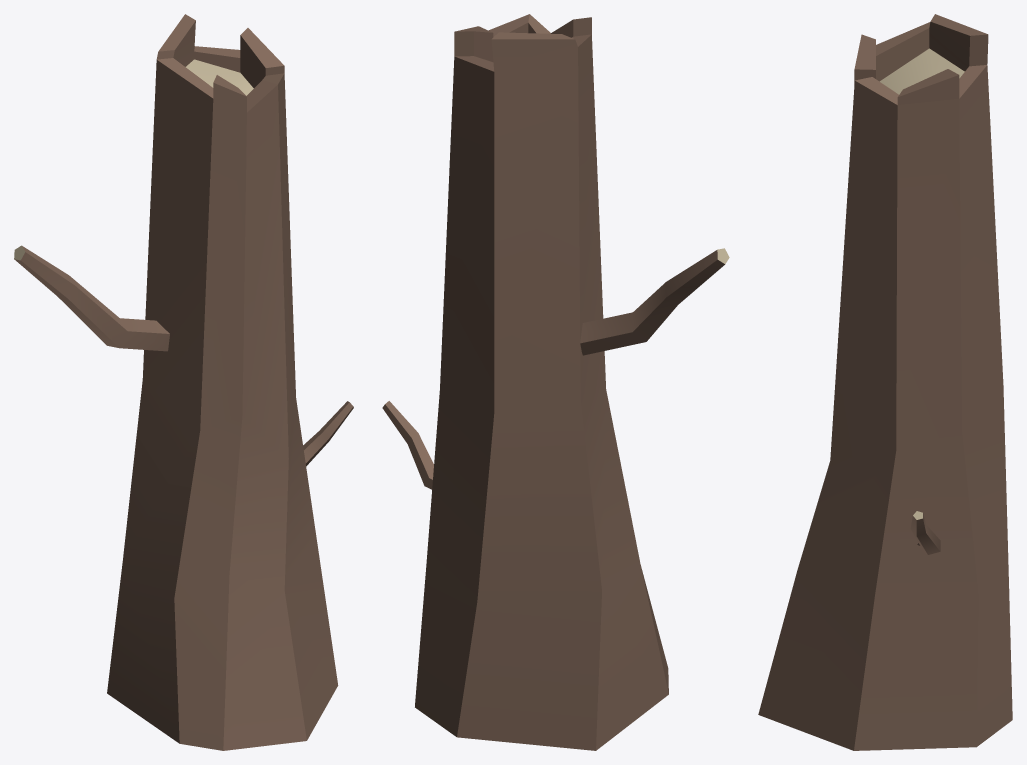
Rendered from tree03.fbx.
3 renders of one model, left to right at view 1: azimuth 30°, elevation 25°; view 2: azimuth 150°, elevation 25°; view 3: azimuth 270°, elevation 25°, orthographic. The views are drawn at different scales.
Visible parts, largest first — view 1: polySurface13; view 2: polySurface13; view 3: polySurface13.
Part boxes in pixels (x1=…): polySurface13: x1=14, y1=14, x2=353, y2=750; polySurface13: x1=382, y1=14, x2=729, y2=750; polySurface13: x1=758, y1=14, x2=1012, y2=750.
Bounding box in the file's own units: 27.2 × 51.42 × 17.51.
